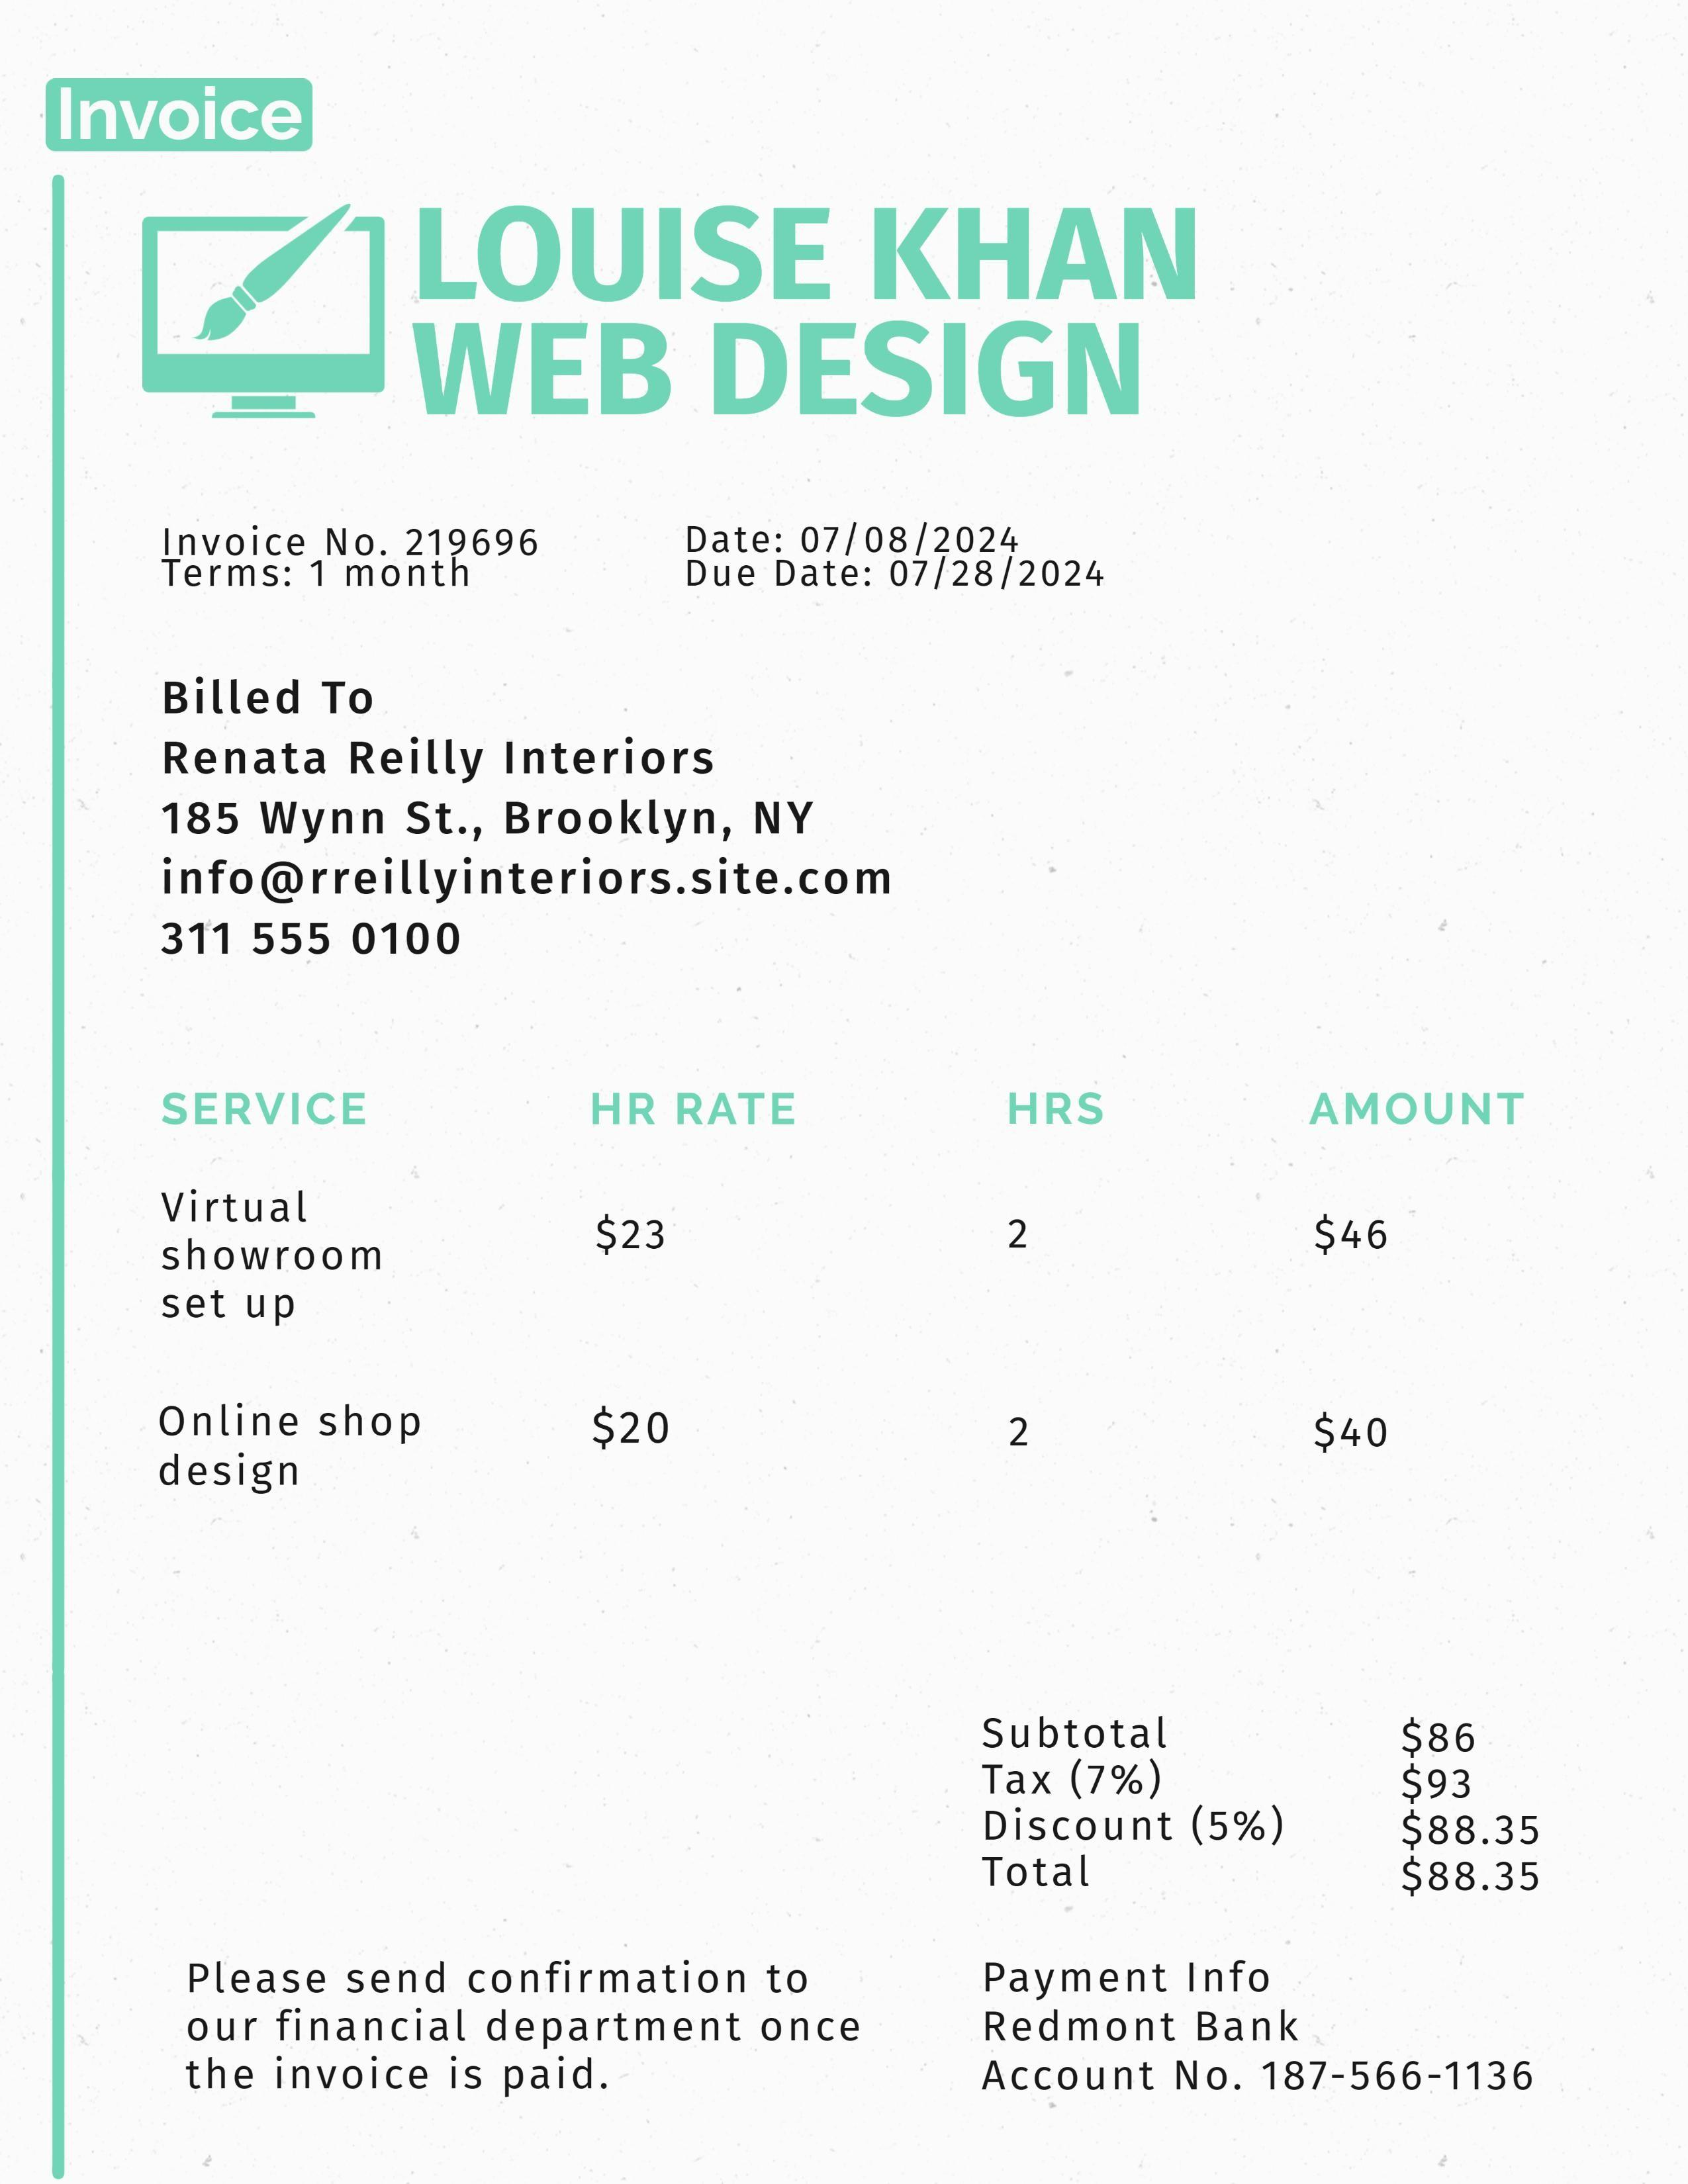ROI: (149, 1076, 1541, 1503), (128, 1938, 1590, 2134), (140, 661, 922, 980), (394, 191, 1227, 425), (968, 1695, 1585, 1916), (145, 514, 1121, 608)
